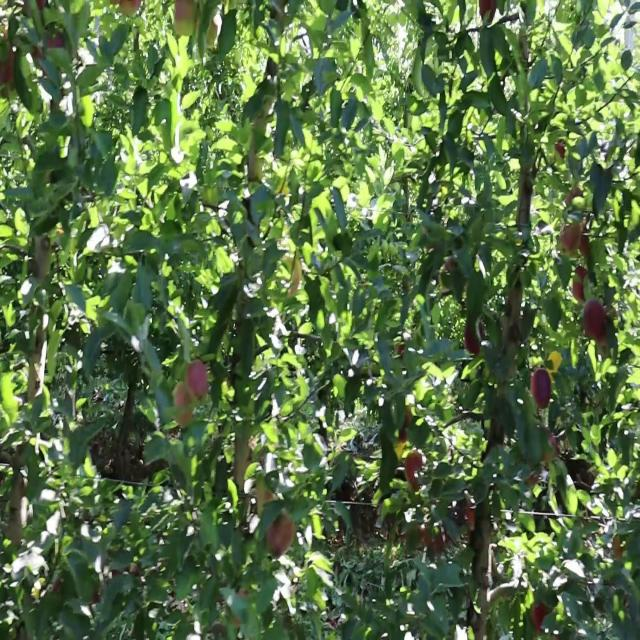apple: (268, 519, 296, 560), (36, 35, 64, 69), (584, 305, 608, 341), (532, 369, 552, 411), (36, 35, 64, 64), (176, 383, 194, 427), (188, 362, 209, 398), (4, 35, 16, 85), (464, 327, 484, 356), (408, 455, 424, 491), (572, 270, 588, 304), (396, 412, 413, 444), (560, 227, 580, 254), (544, 433, 560, 464), (532, 604, 549, 633), (256, 483, 274, 508), (116, 0, 142, 16), (44, 35, 64, 55), (568, 184, 584, 206), (480, 0, 497, 20), (176, 7, 196, 23), (580, 234, 591, 258), (612, 540, 624, 562), (548, 355, 564, 370), (556, 142, 567, 160), (400, 348, 404, 356)
